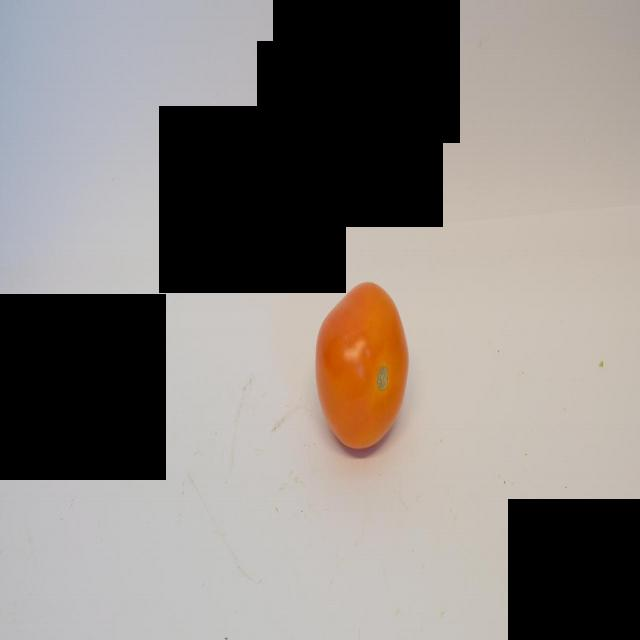tomato: (315, 279, 410, 450)
